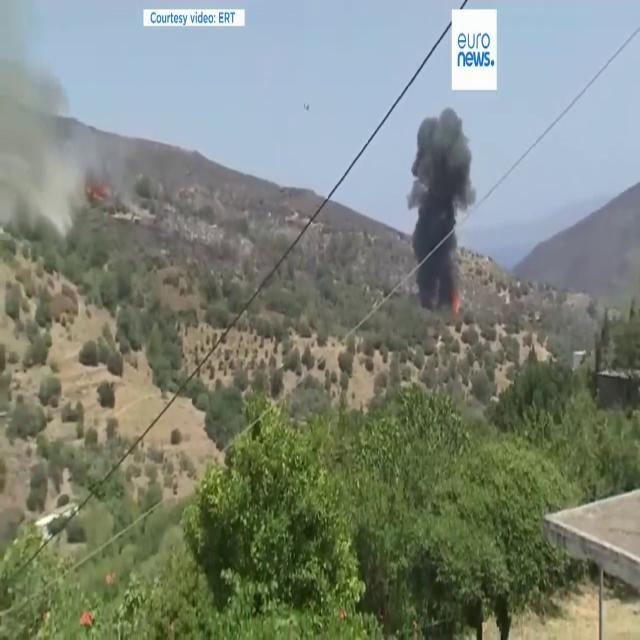Smoke: (0, 2, 97, 236), (407, 103, 475, 299)
